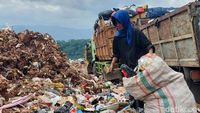pemulung: (88, 10, 197, 113)
